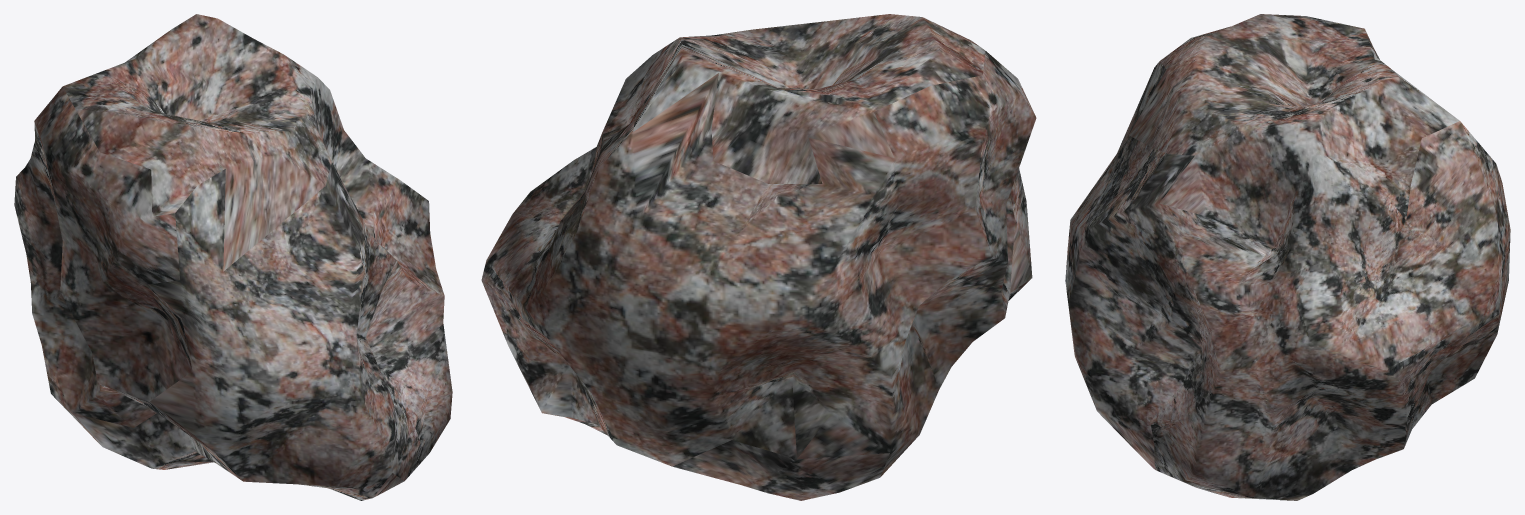
The model's file is granito_low.glb.
The picture shows the model from 3 angles, left to right: view 1: azimuth 30°, elevation 25°; view 2: azimuth 150°, elevation 25°; view 3: azimuth 270°, elevation 25°; orthographic projection. The views are drawn at different scales.
Visible parts, largest first — view 1: Cube; view 2: Cube; view 3: Cube.
Part boxes in pixels (x1=…): Cube: x1=14, y1=14, x2=452, y2=500; Cube: x1=481, y1=14, x2=1036, y2=500; Cube: x1=1065, y1=14, x2=1510, y2=500.
Size of the model in its own units: 4.4 by 4.39 by 4.7.
1 material, 1 textured.
